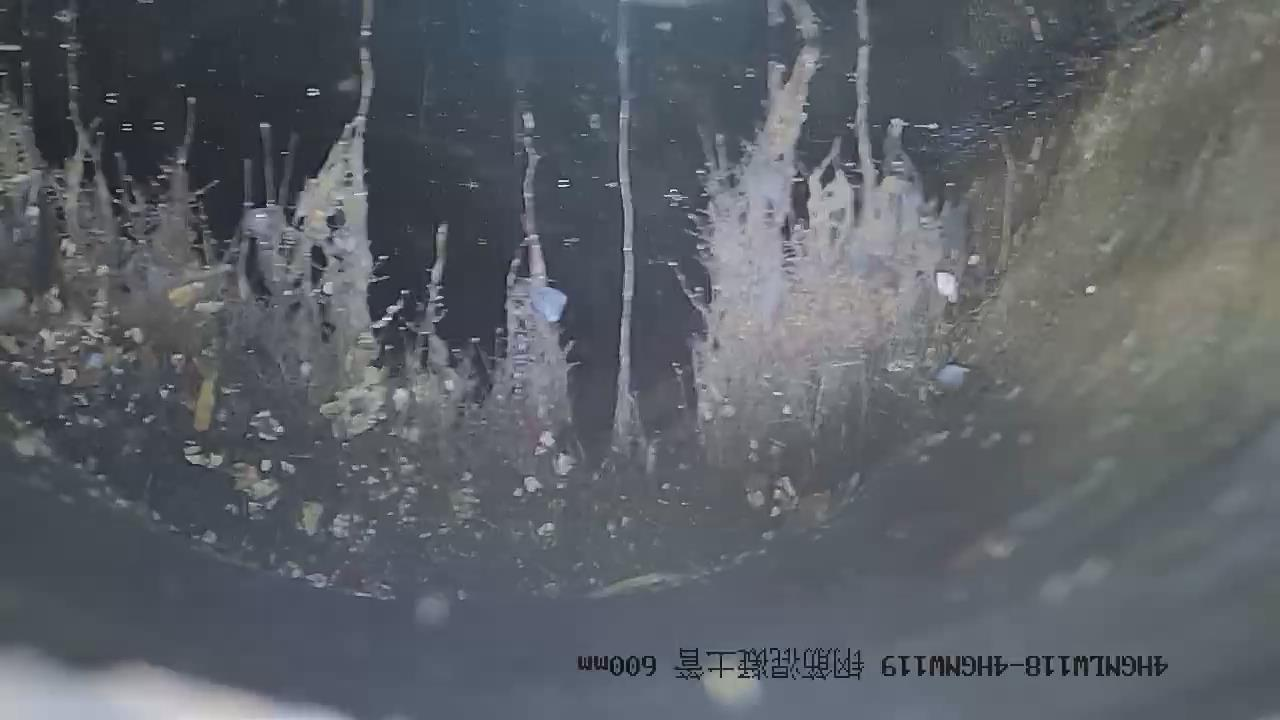SG: (1, 1, 963, 608)
